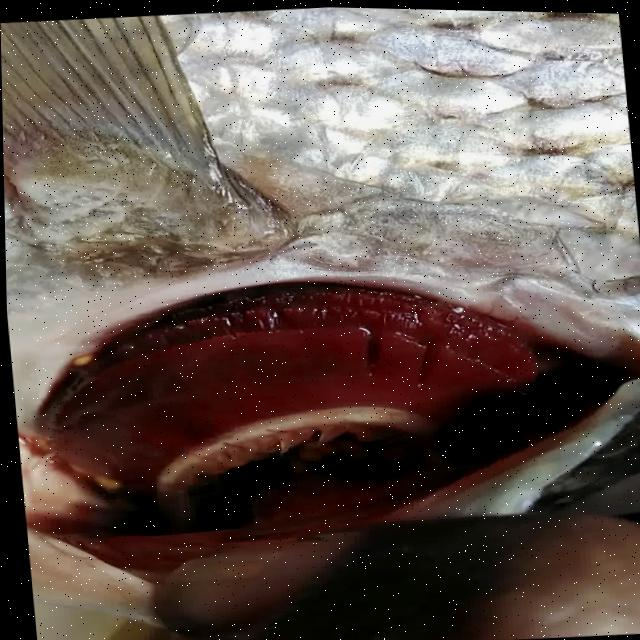Fresh: (4, 231, 640, 560)
